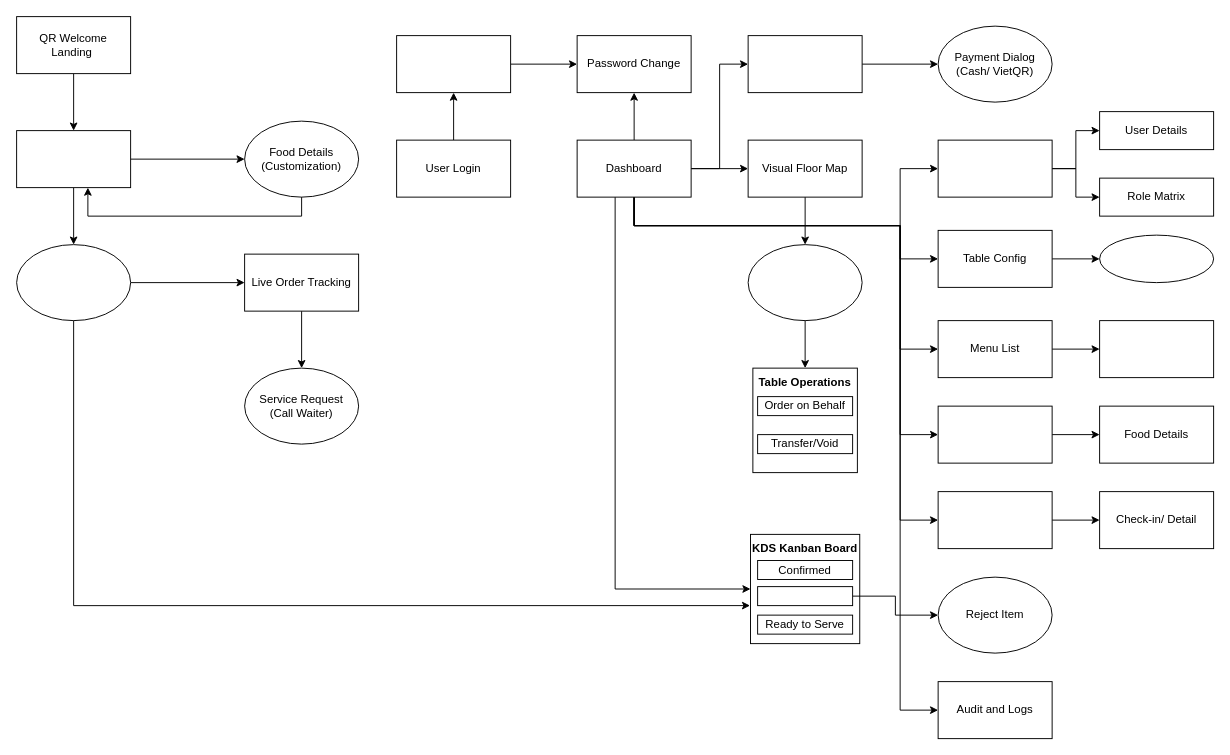
The diagram is 1230 pixels wide and 755 high, and some of its shapes have lost their labels. The centre of each missing label's shape, as x and y in pixels:
"Billing and Settlement" belongs at (x=804, y=64).
"Cart and Checkout (Drawer)" belongs at (x=73, y=282).
"Digital Menu" belongs at (x=73, y=159).
"Food List" belongs at (x=994, y=434).
"Menu Details" belongs at (x=1156, y=349).
"Preparing" belongs at (x=805, y=596).
"QR Batch Print" belongs at (x=1156, y=258).
"Reservation List" belongs at (x=994, y=520).
"Staff List" belongs at (x=994, y=168).
"Table Session Control" belongs at (x=804, y=282).
"User Profile" belongs at (x=453, y=64).
